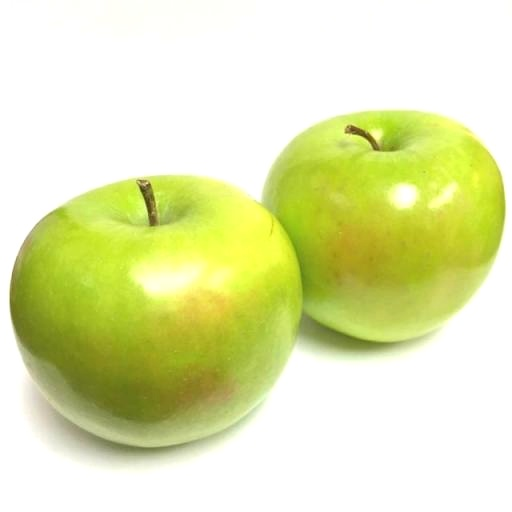fruit: (11, 176, 301, 446), (264, 111, 504, 341)
